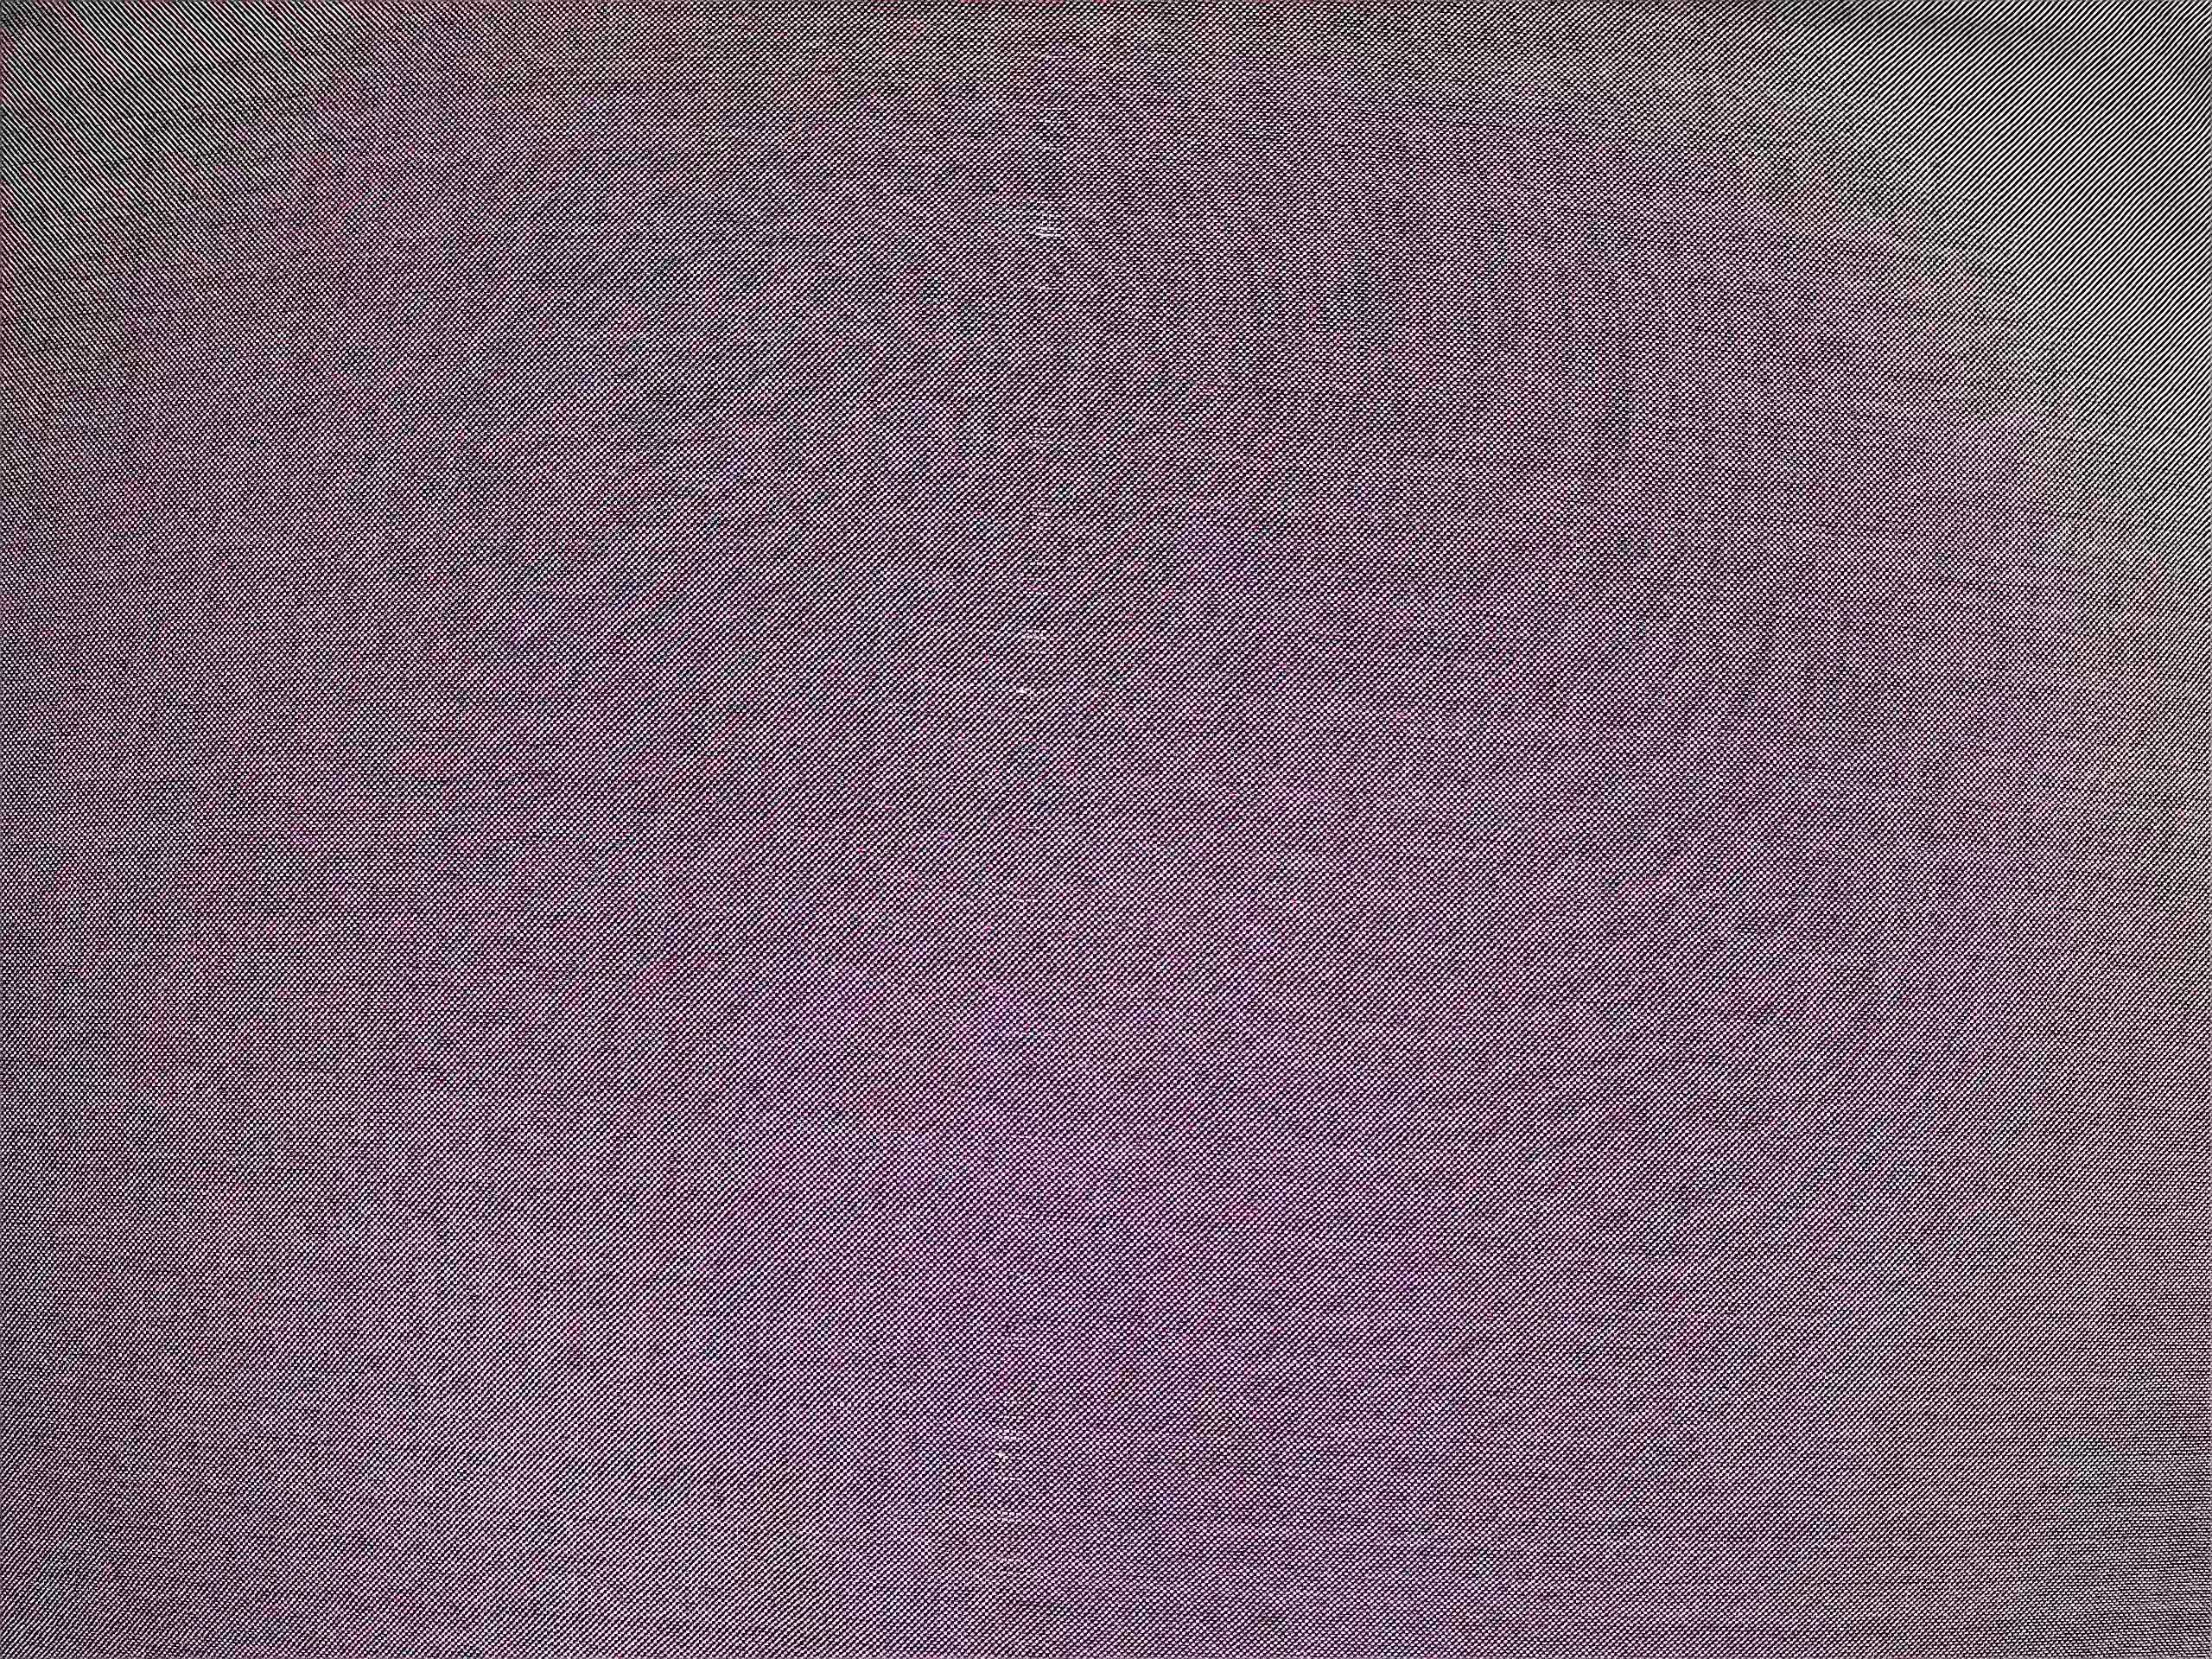jumps: (992, 185, 1085, 709)
